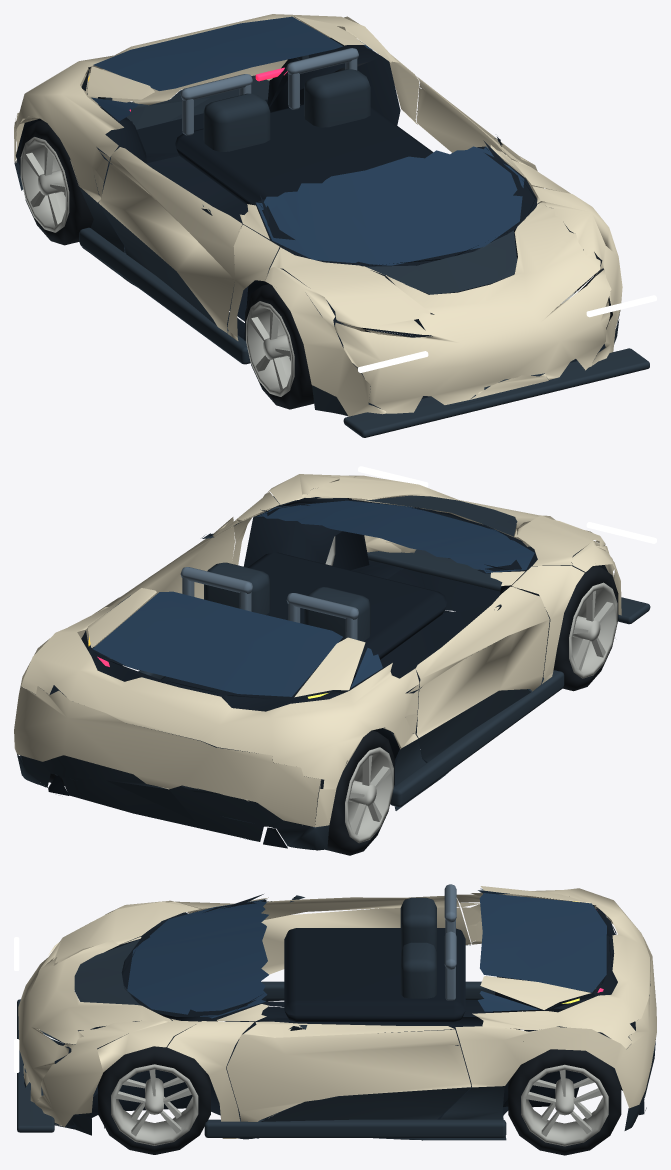
The model's file is solis-lod2.glb.
3 views of the same model, one above another, from view 1: azimuth 30°, elevation 25°; view 2: azimuth 150°, elevation 25°; view 3: azimuth 270°, elevation 25° (orthographic). The views are drawn at different scales.
Visible parts, largest first — view 1: Body, WheelRearR, WheelFrontR; view 2: Body, WheelRearR, WheelFrontR; view 3: Body, WheelFrontL, WheelRearL.
Boxes of the visible parts, x1,y1,x2,y2 form: Body: (14,14,656,437); WheelRearR: (19,120,93,245); WheelFrontR: (245,284,314,409); Body: (14,466,656,850); WheelRearR: (325,730,394,855); WheelFrontR: (553,566,618,691); Body: (14,884,656,1140); WheelFrontL: (98,1043,210,1154); WheelRearL: (508,1049,621,1155).
Size of the model in its own units: 2.29 by 1.2 by 4.26.
